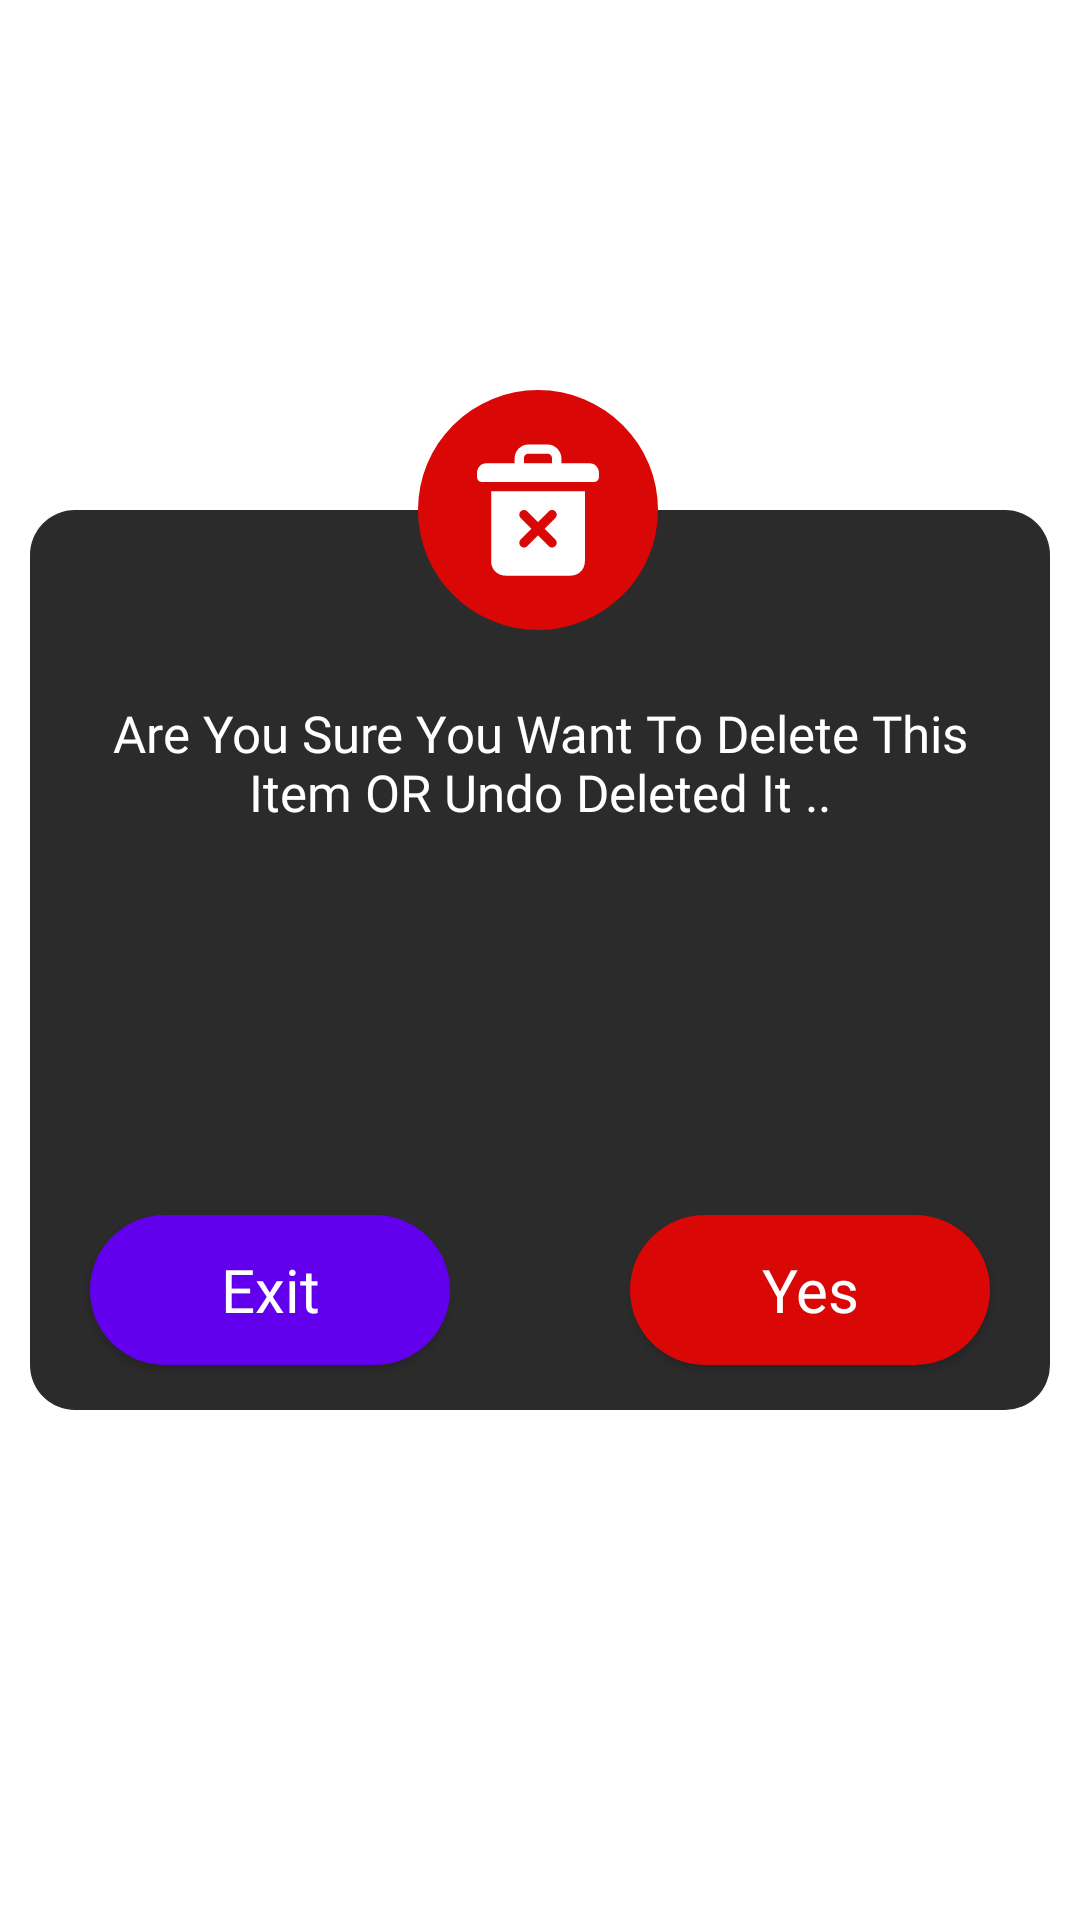

Named icons in this screenshot (1080px x 1920px) and their centers, [x,y]:
iconfinder delete: [538,510]
